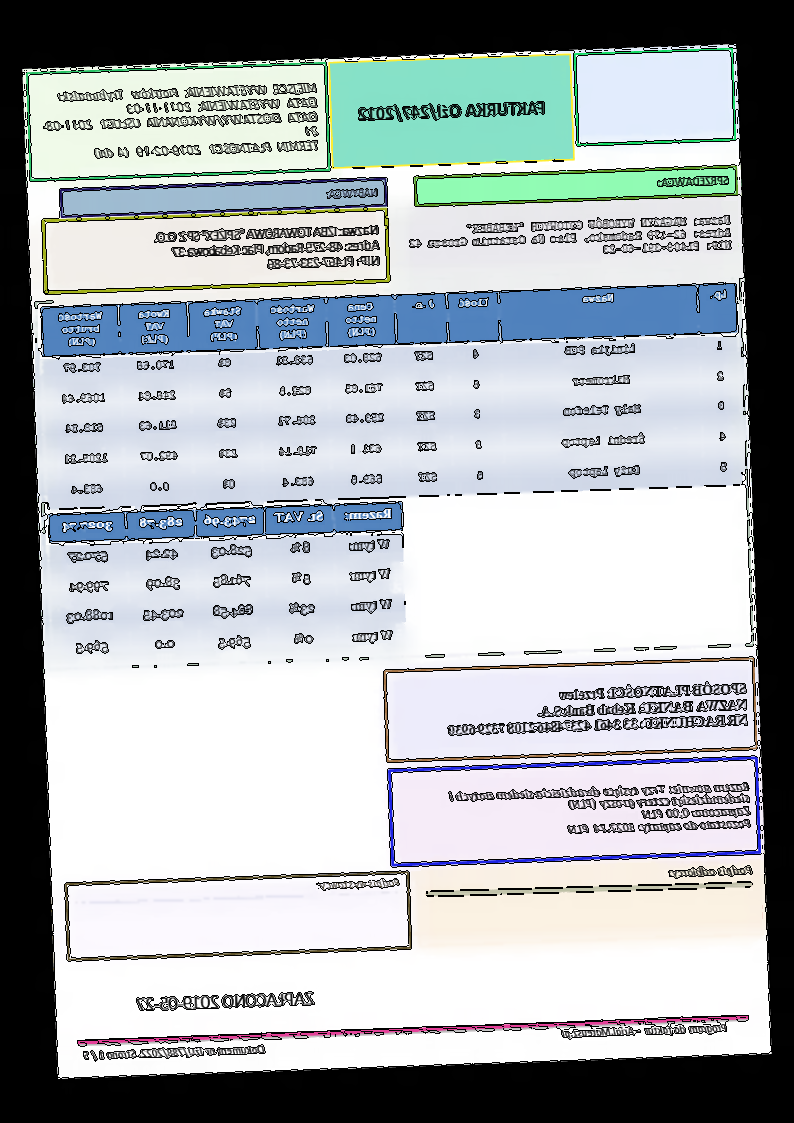Table: (40, 280, 745, 510), (48, 501, 408, 666)
TextBox: (40, 79, 323, 163), (446, 779, 753, 841), (446, 678, 750, 739), (408, 213, 734, 263), (154, 223, 383, 275), (356, 98, 548, 125), (133, 987, 317, 1013), (82, 1042, 267, 1063), (558, 1020, 731, 1041), (668, 863, 756, 880), (656, 173, 732, 191), (316, 876, 401, 892), (325, 184, 382, 202)
